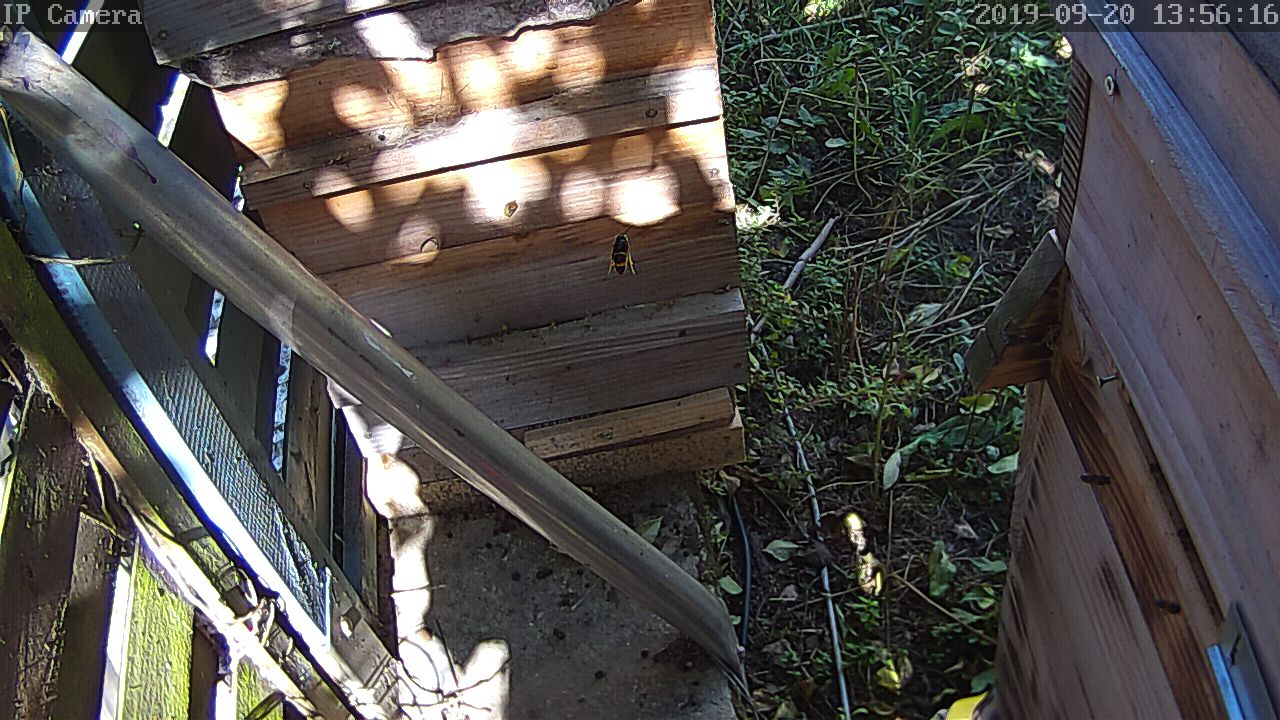bee: (1080, 466, 1119, 493)
hornet: (603, 226, 638, 279)
